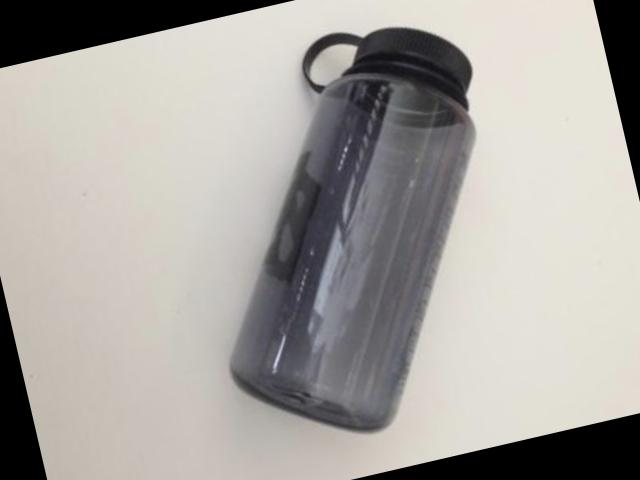plastic: (232, 25, 476, 427)
